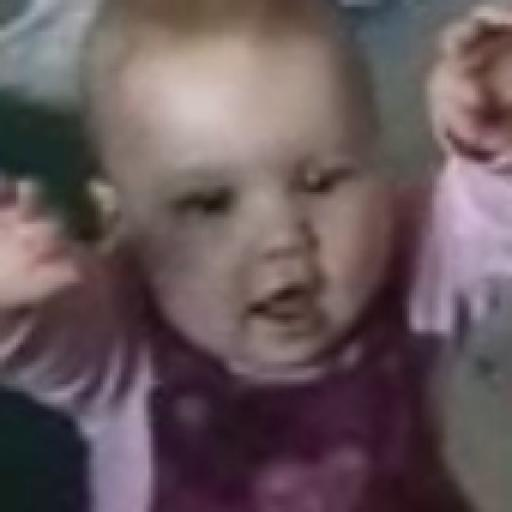Autism: (78, 0, 452, 423)
